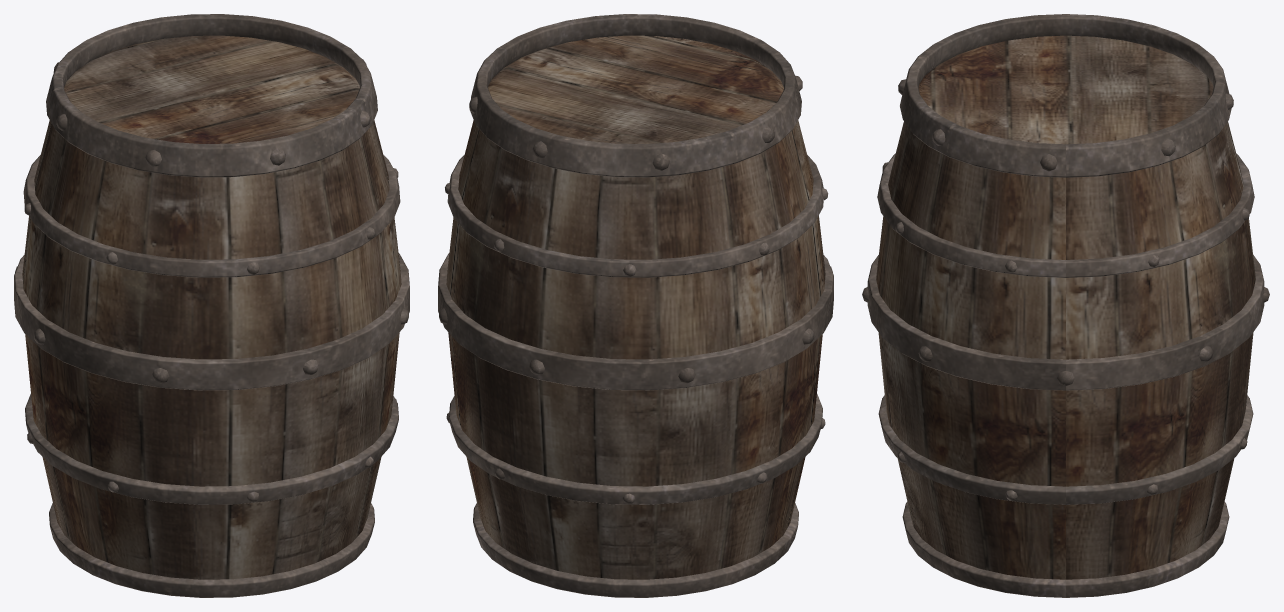
File: SM_Wooden_Barrel_01a.gltf
3 renders of one model, left to right at view 1: azimuth 30°, elevation 25°; view 2: azimuth 150°, elevation 25°; view 3: azimuth 270°, elevation 25°, orthographic.
Visible parts, largest first — view 1: SM_Wooden_Barrel_01a; view 2: SM_Wooden_Barrel_01a; view 3: SM_Wooden_Barrel_01a.
Part boxes in pixels (<box>): SM_Wooden_Barrel_01a: <box>14,14,409,597</box>; SM_Wooden_Barrel_01a: <box>438,14,833,597</box>; SM_Wooden_Barrel_01a: <box>862,14,1269,597</box>.
Bounding box in the file's own units: 0.9058 × 1.1 × 0.9058.
2 materials, 2 textured.
